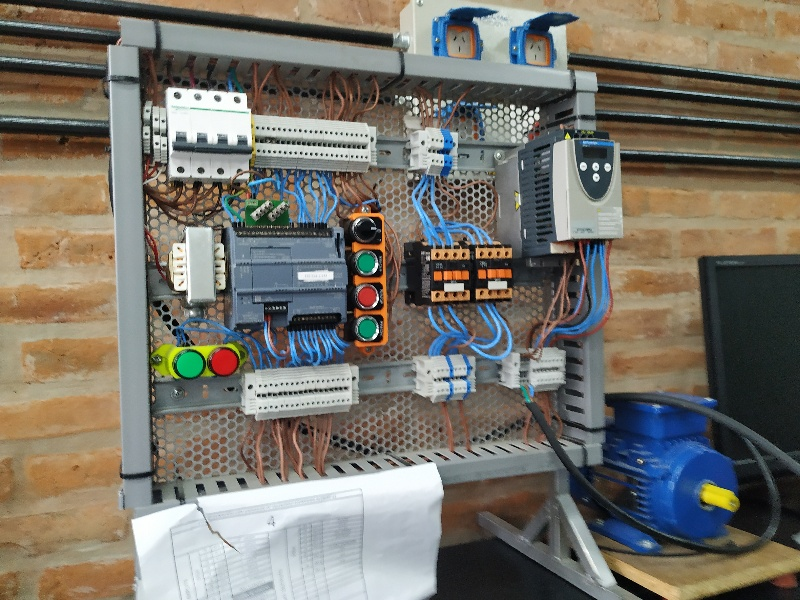Tablero 4: (125, 33, 619, 496)
